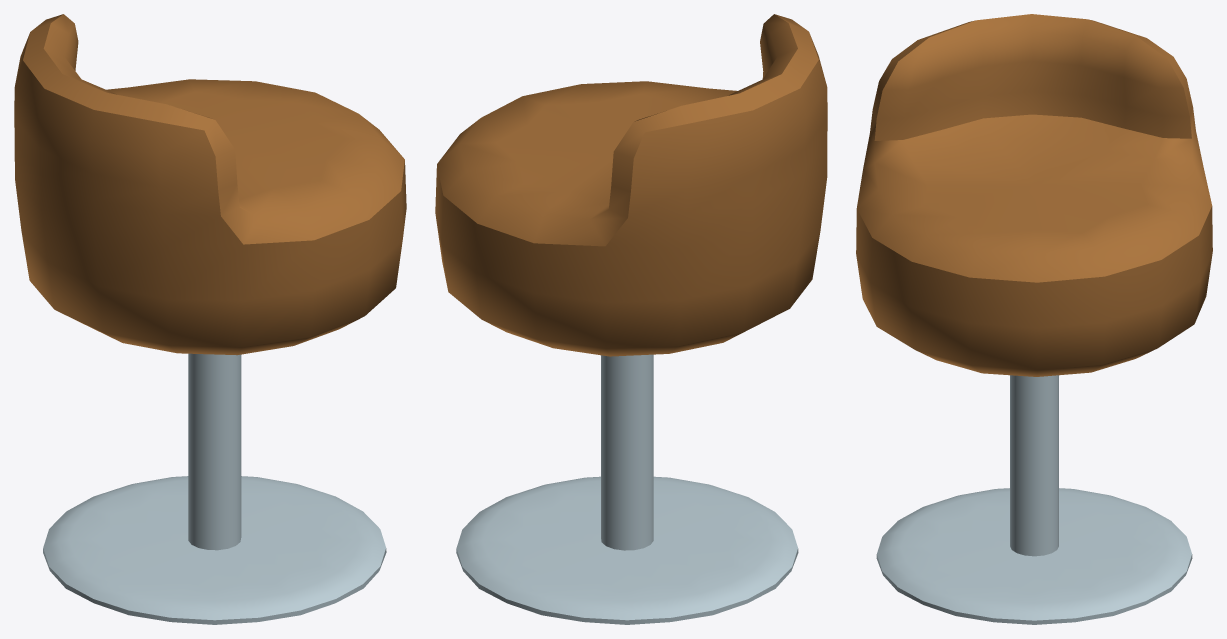
The model's file is chair.glb.
3 renders of one model, left to right at view 1: azimuth 30°, elevation 25°; view 2: azimuth 150°, elevation 25°; view 3: azimuth 270°, elevation 25°, orthographic. The views are drawn at different scales.
Parts seen in each view (by area): view 1: Chair; view 2: Chair; view 3: Chair.
Part boxes in pixels (x1,y1,x2,y2): Chair: (14,14,406,624); Chair: (435,14,827,624); Chair: (856,14,1212,624).
Size of the model in its own units: 1.37 by 1.97 by 1.34.
Materials: 1 (1 with a texture image).
